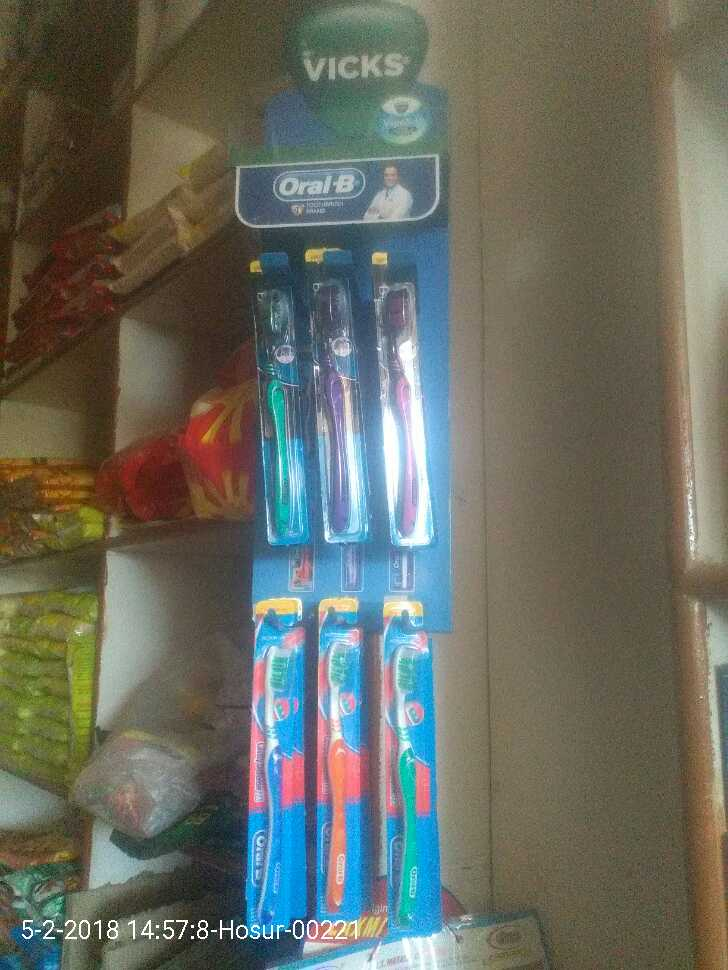oralb: (361, 285, 438, 541), (304, 279, 357, 546), (249, 640, 297, 929), (383, 640, 427, 930), (249, 285, 295, 550), (326, 632, 361, 926)
